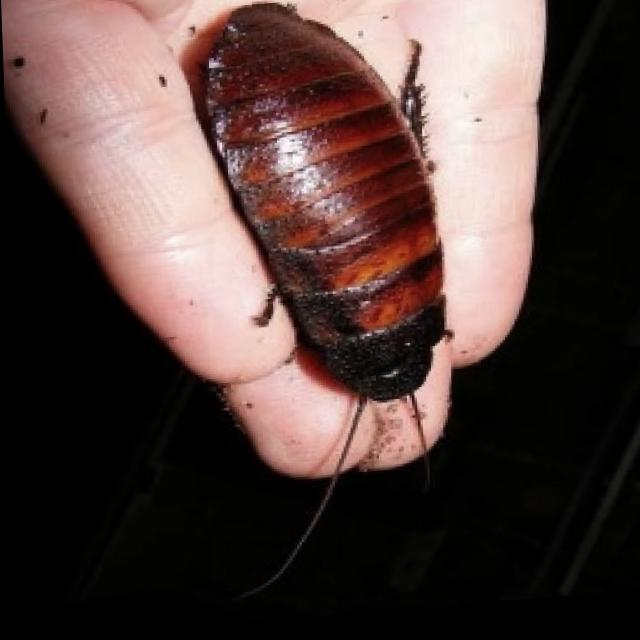cockroach: (176, 0, 472, 428)
